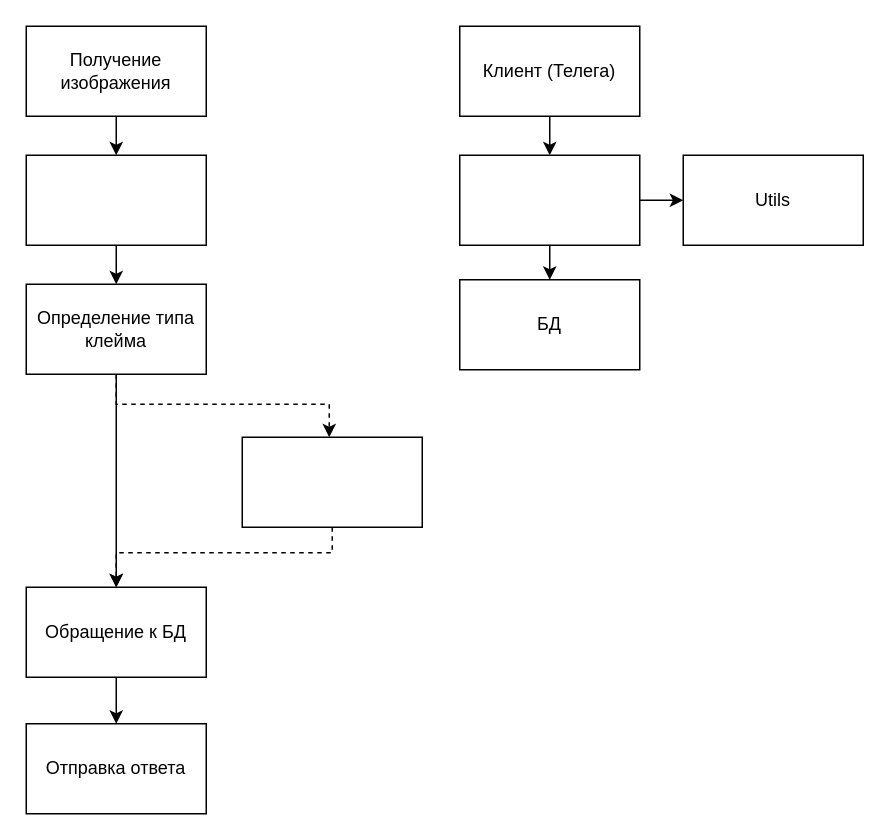
Some shapes in this 890 by 840 pixel diagram are drawn without their labels. Each missing label, with the box of its shape:
(Опционально) Определение типа предмета: (241, 436, 422, 527)
Распознание текста: (25, 154, 206, 245)
Сервер: (458, 154, 640, 245)
